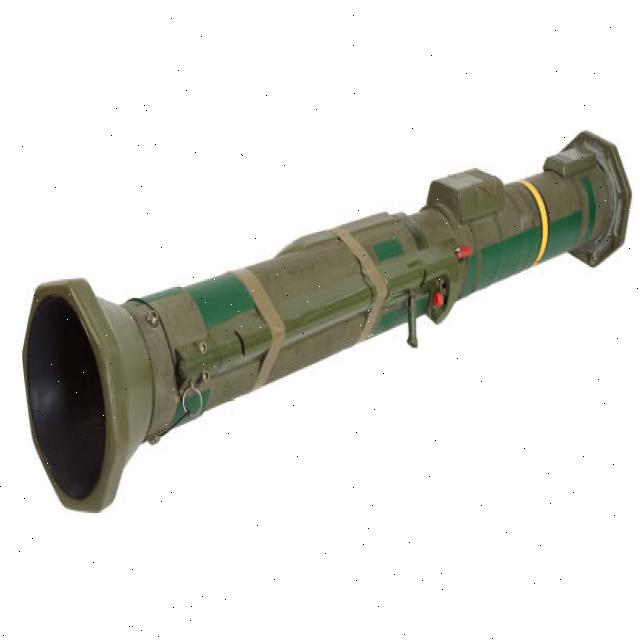bazooka: (11, 128, 639, 531)
